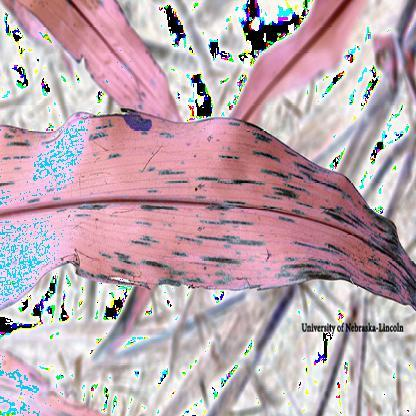Corn leaf blight: (2, 111, 416, 320)
